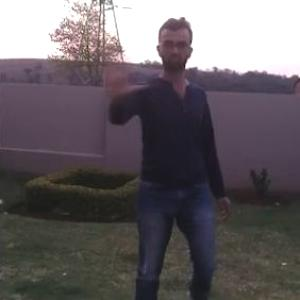follow_hand: (97, 44, 147, 96)
